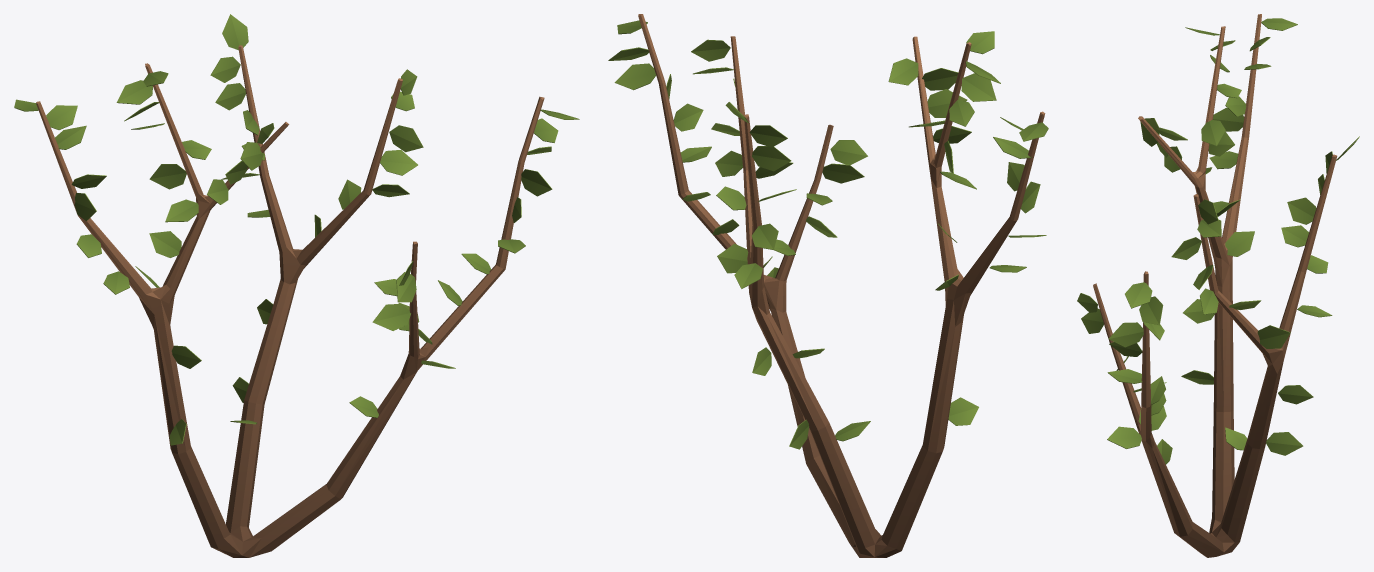
Rendered from Plant_09.fbx.
3 renders of one model, left to right at view 1: azimuth 30°, elevation 25°; view 2: azimuth 150°, elevation 25°; view 3: azimuth 270°, elevation 25°, orthographic. The views are drawn at different scales.
Parts seen in each view (by area): view 1: Plant_09_LOD0; view 2: Plant_09_LOD0; view 3: Plant_09_LOD0.
Boxes of the visible parts, bbox=[...] form: Plant_09_LOD0: bbox=[14, 14, 579, 557]; Plant_09_LOD0: bbox=[608, 14, 1048, 557]; Plant_09_LOD0: bbox=[1077, 14, 1359, 557].
Size of what is drawn, in the model's own units: 0.7678 by 0.776 by 0.4122.
